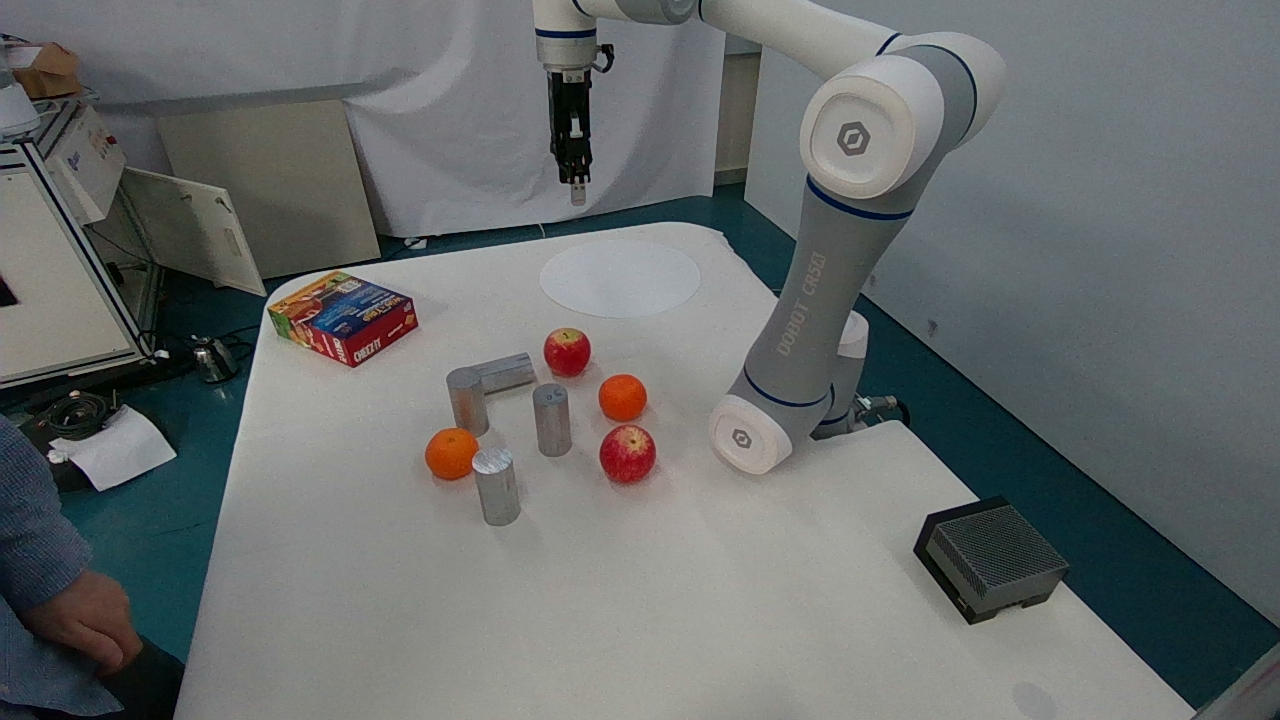apple: (416, 417, 480, 485), (592, 366, 657, 424)
metal rod: (590, 421, 656, 489), (538, 319, 606, 381)
orange: (466, 438, 531, 528), (524, 375, 580, 462), (460, 345, 542, 395), (441, 359, 490, 436)
